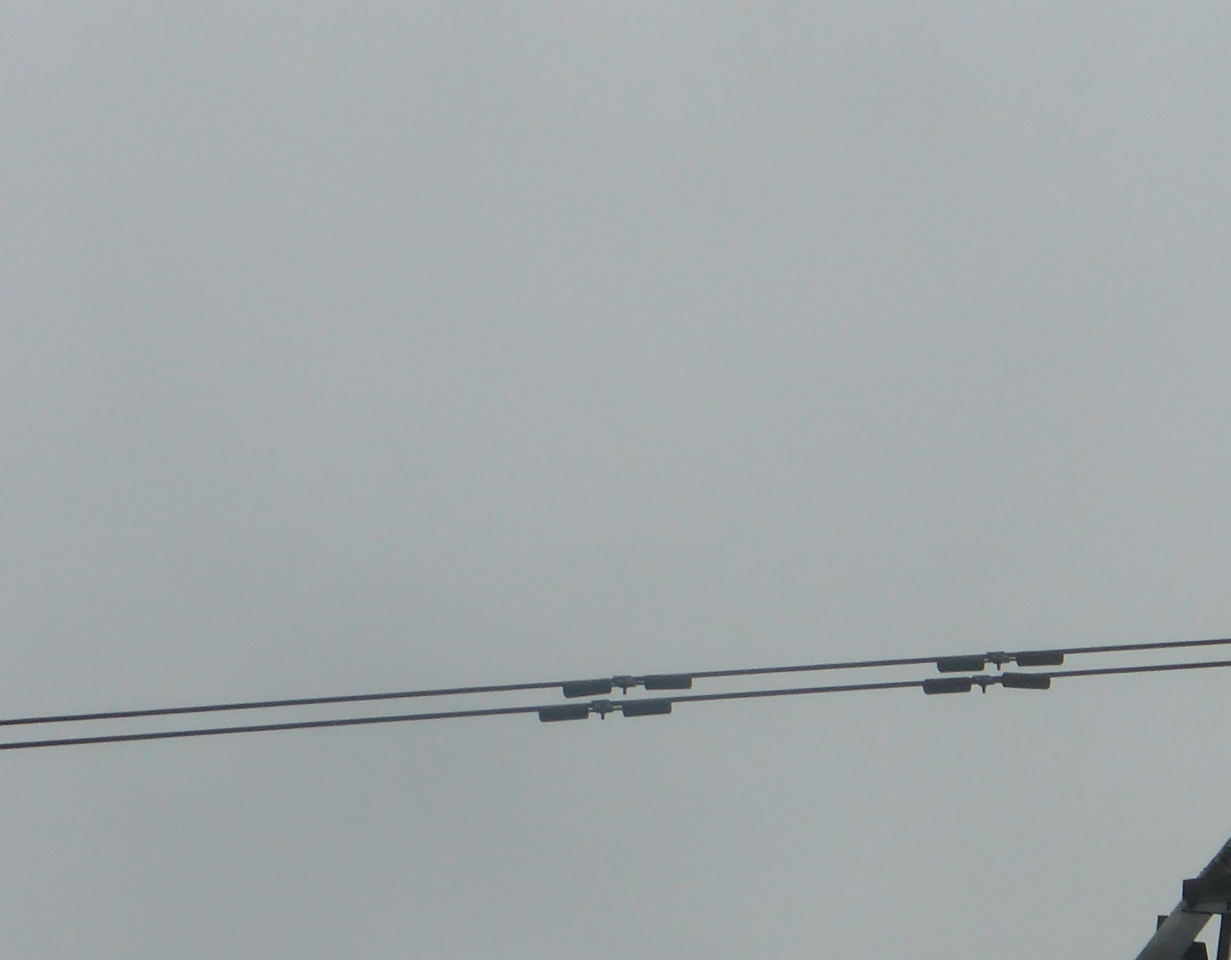damper: (932, 643, 1065, 676), (559, 668, 697, 699), (536, 696, 672, 725), (919, 671, 1055, 694)
